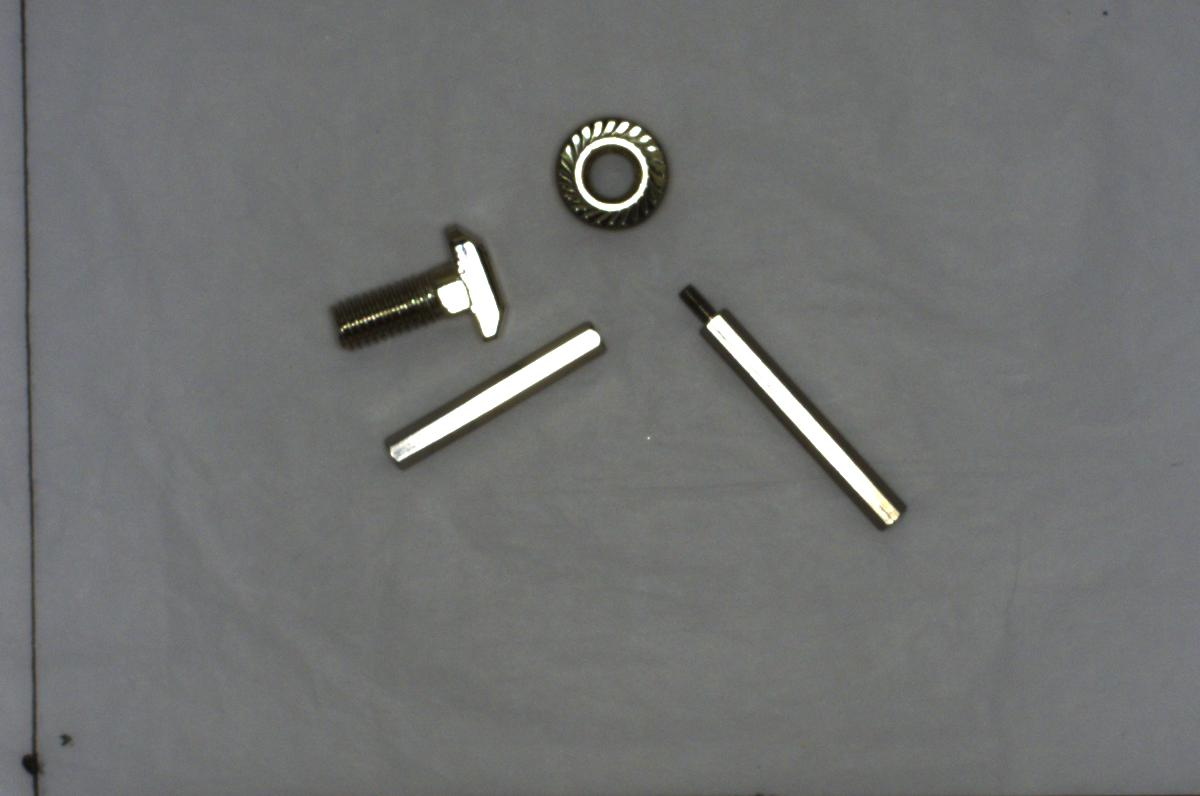Double hexagonal column: (346, 313, 620, 481)
Flange nut: (545, 106, 673, 232)
Hexagonal steel column: (661, 270, 910, 538)
T-shaped screw: (317, 220, 513, 355)
